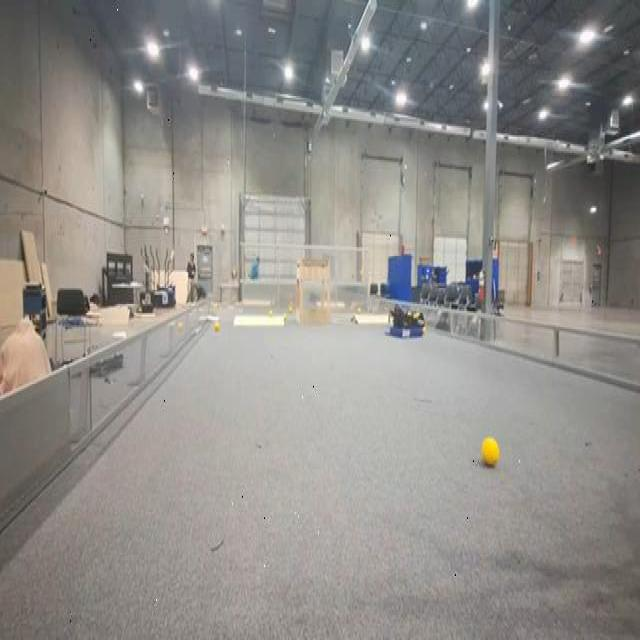Fuel: (481, 436, 500, 466), (481, 437, 499, 466), (214, 322, 219, 331)
